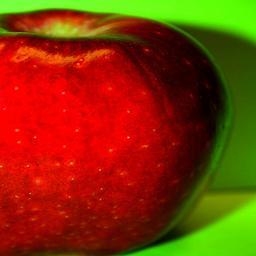apple: (1, 9, 229, 251)
